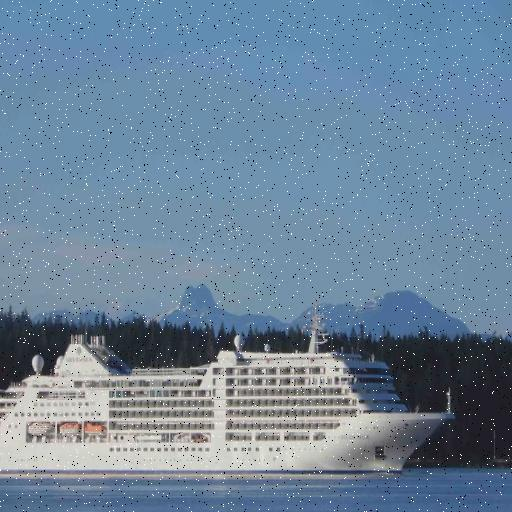cruises: (1, 297, 462, 488)
